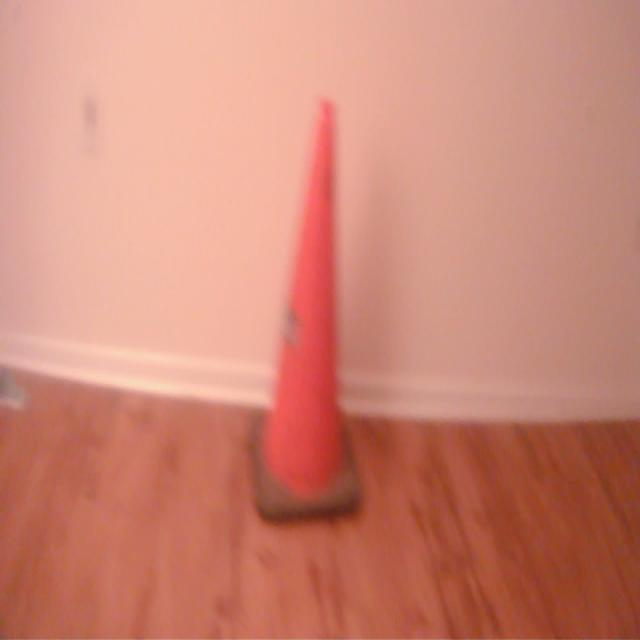traffic cone: (243, 91, 371, 531)
